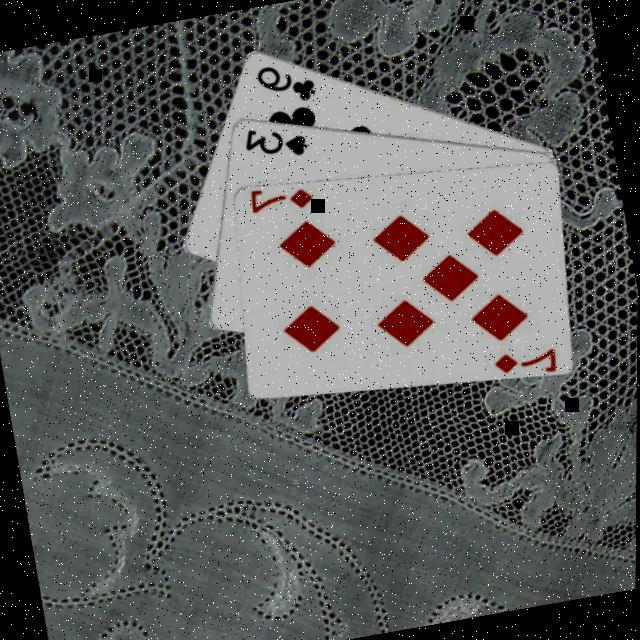3S: (236, 116, 308, 166)
7D: (243, 179, 315, 218), (488, 340, 558, 380)
9C: (248, 53, 318, 110)
